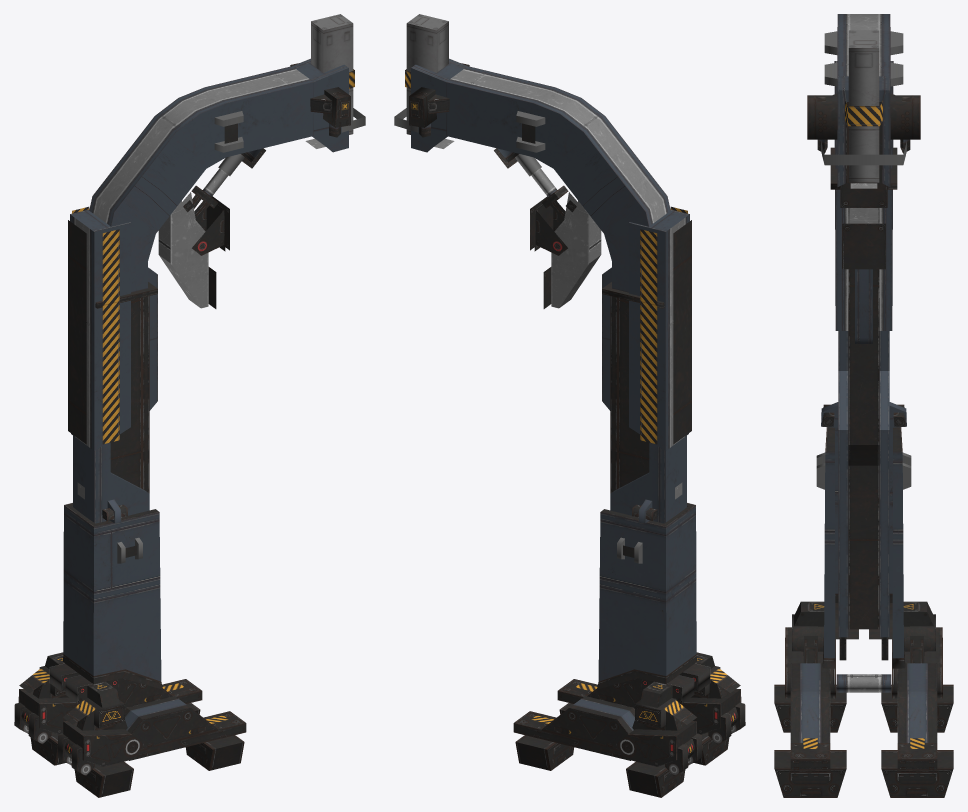
File: Crane_2_L3.fbx
3 views of the same model, side by side, from view 1: azimuth 30°, elevation 25°; view 2: azimuth 150°, elevation 25°; view 3: azimuth 270°, elevation 25° (orthographic). The views are drawn at different scales.
Parts seen in each view (by area): view 1: Crane_2_L3; view 2: Crane_2_L3; view 3: Crane_2_L3.
Part boxes in pixels (x1,y1,x2,y2): Crane_2_L3: [14, 14, 365, 797]; Crane_2_L3: [394, 14, 745, 797]; Crane_2_L3: [774, 14, 953, 797].
Bounding box in the file's own units: 386 × 834 × 163.
